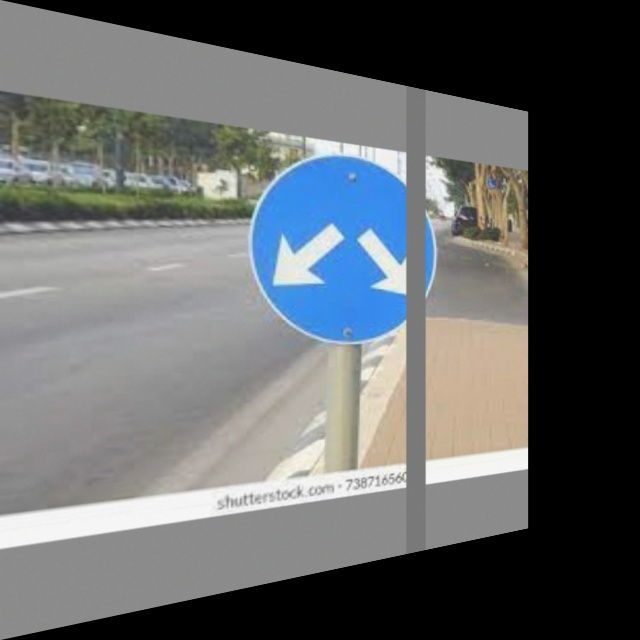Pass_Either_Side: (248, 140, 438, 346)
